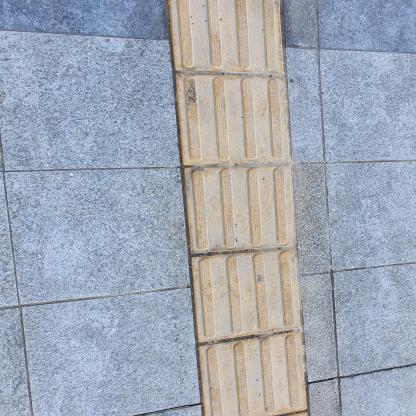podotacti: (155, 0, 319, 415)
